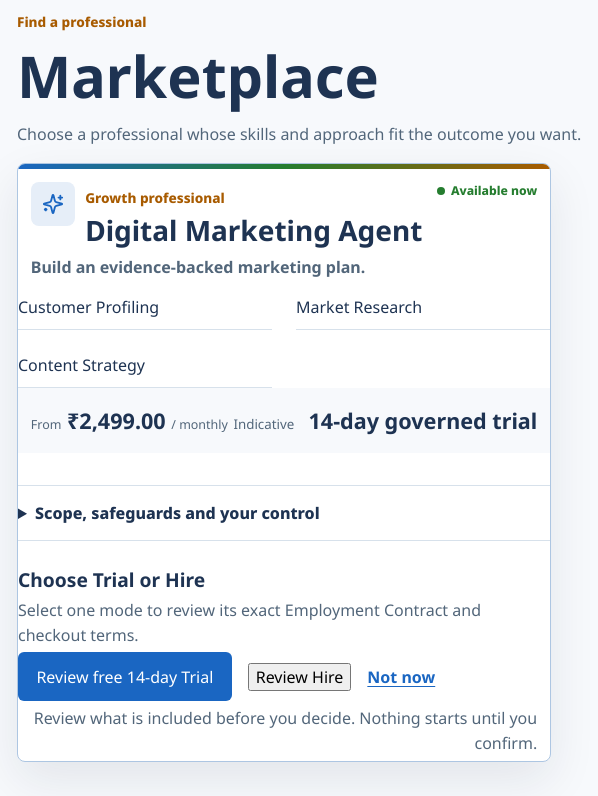
Test case: uses the canonical disclosure route and preserves each available intent
Expected: the button "Review free 14-day Trial" is enabled, [18,652,232,701]
Expected: the text "Build an evidence-backed marketing plan." is shown, [31,256,365,278]
Click the button "Review Hire" at (300, 677), box [248,663,351,691]
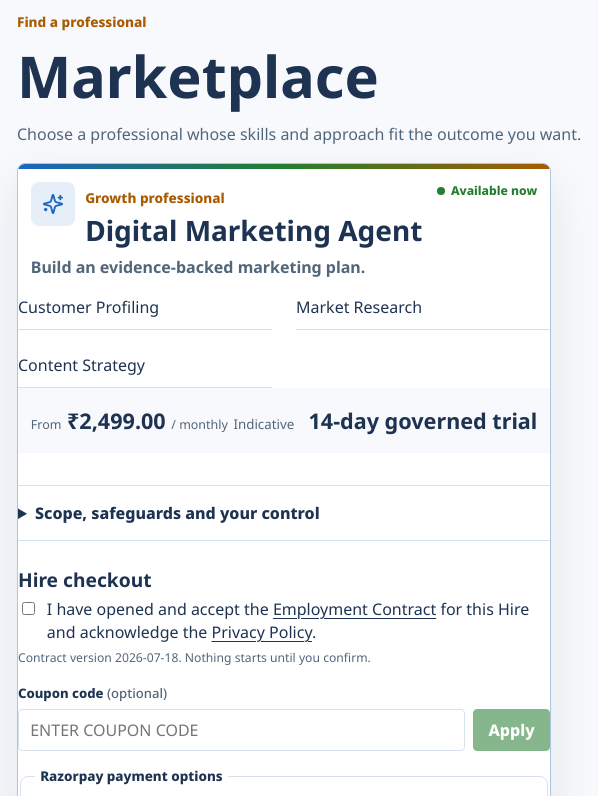
Expected: the heading "Hire checkout" is shown, [18,566,152,593]
Expected: the checkbox is not checked, [22,602,35,615]
